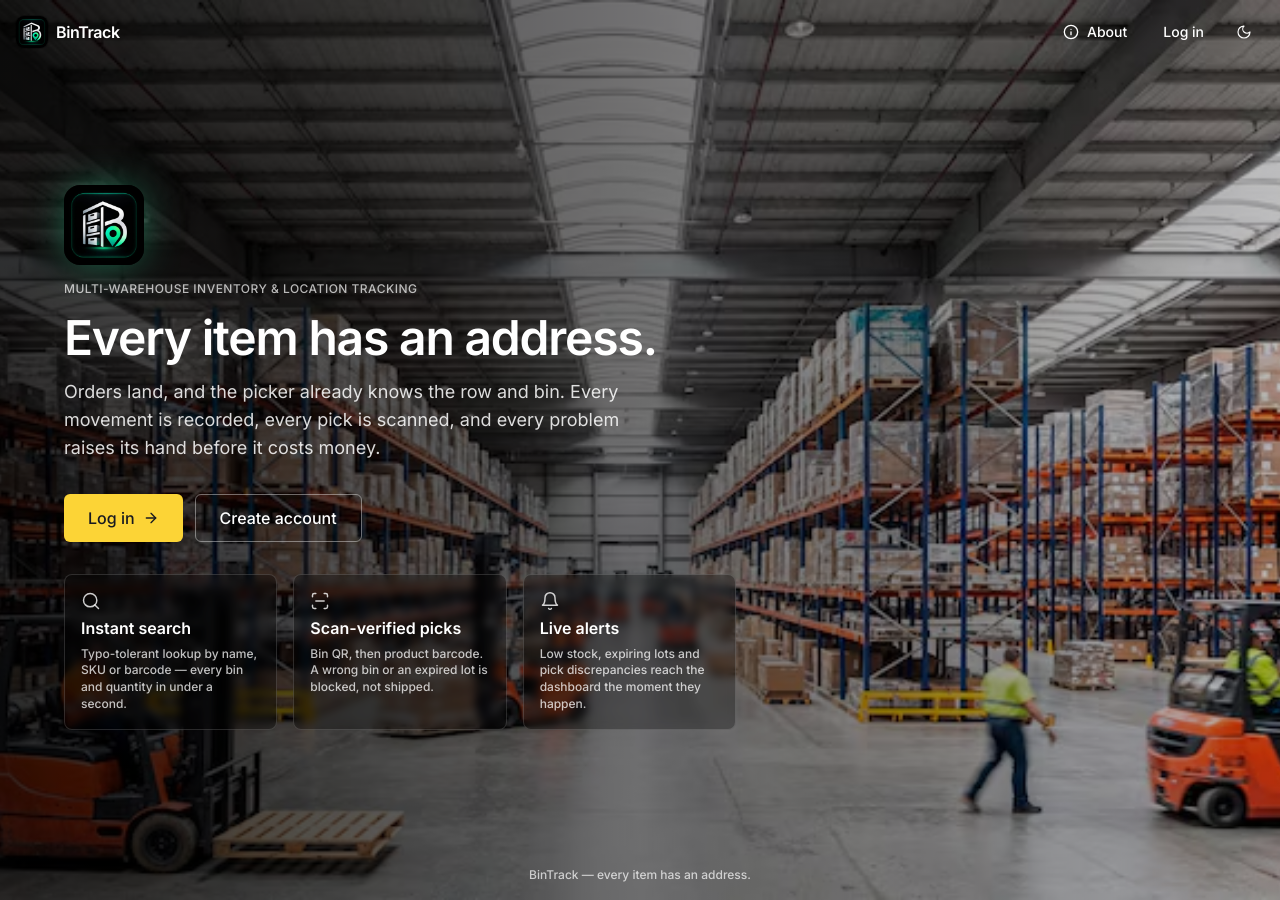
app composition › opens as a landing view, and Log in reveals the form
Check: the heading "Every item has an address." is shown, box [64,314,736,362]
Check: the field labelled "password" is not shown
Note: Two entry points carry the same name: the header and the hero button.
Click the 1st button "Log in": (1184, 32) [1147,12,1220,52]
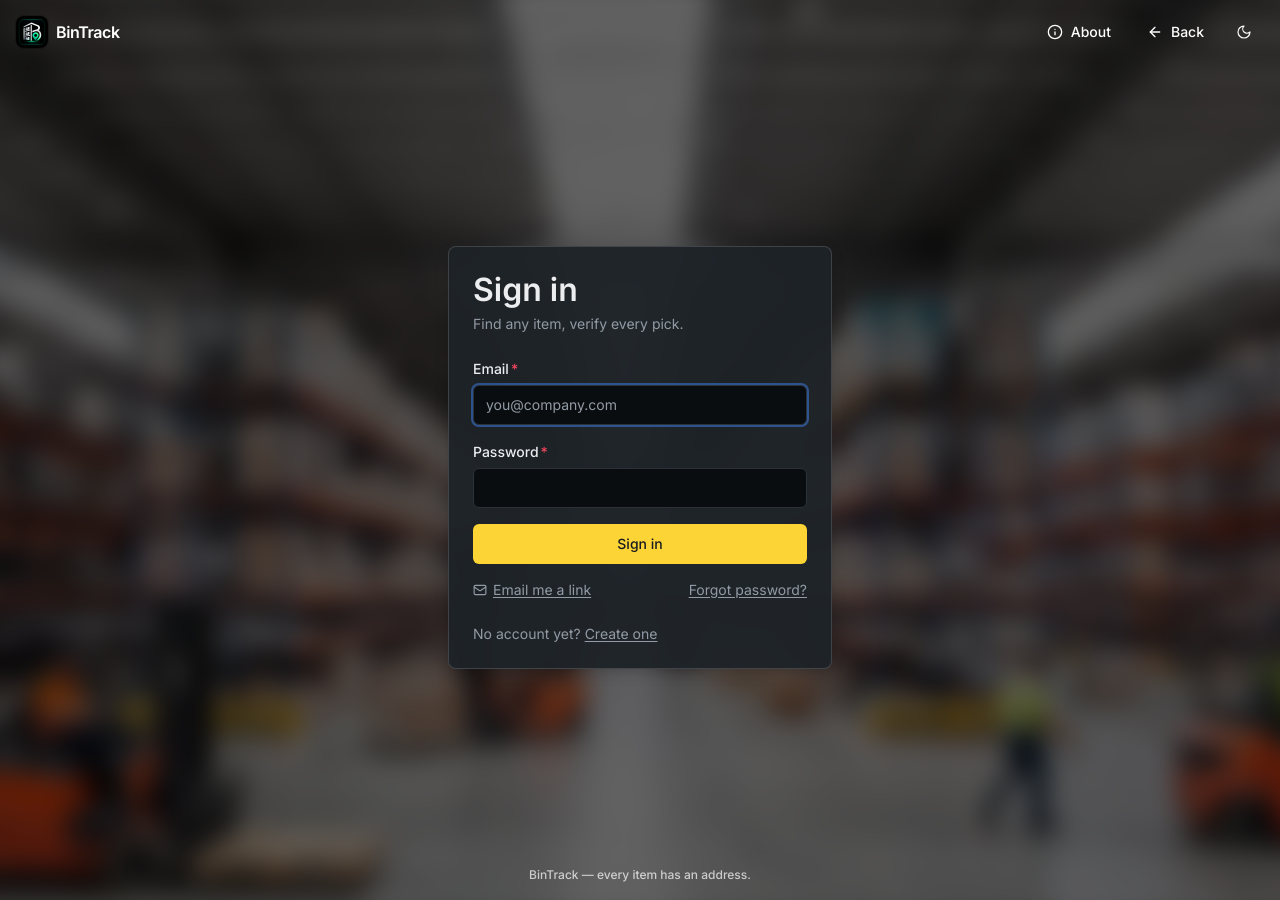
Check: the heading "Sign in" is shown, box [473,270,578,309]
Check: the field labelled "Email*" is shown, box [473,385,807,425]
Check: the password field labelled "Password*" is shown, box [473,468,807,508]
